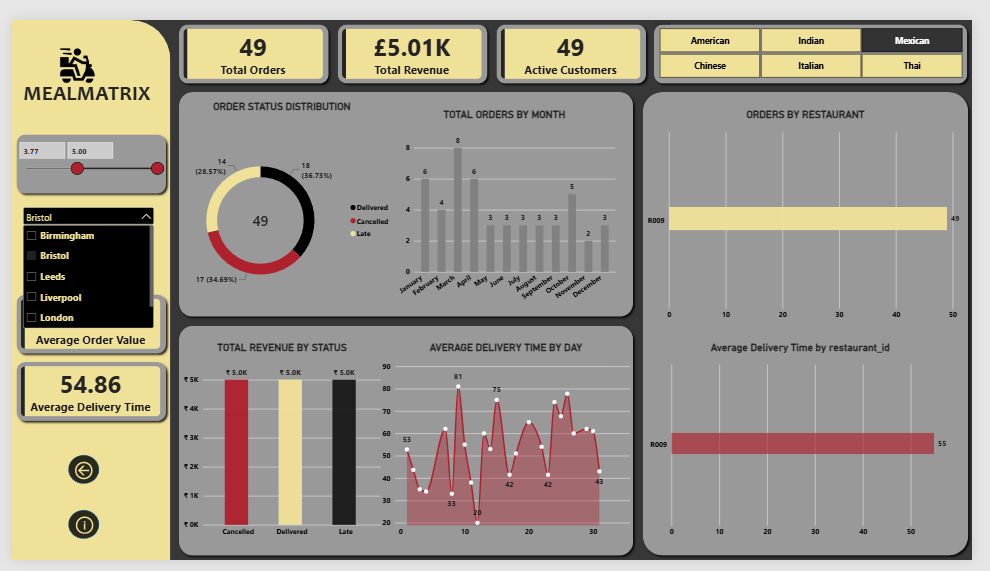

Layout of this report page (visuals, bound fields, positions):
{"tool":"powerbi","page":{"name":"Page 1","canvas":[1920,1080],"ordinal":0},"visuals":[{"type":"shape","box":[0,0,317,1080.6],"z":0},{"type":"shape","box":[0,220.2,317,135.8],"z":1000},{"type":"shape","box":[325.2,0,317,135.8],"z":2000},{"type":"shape","box":[959.2,0,317,135.8],"z":3000},{"type":"shape","box":[0,675.1,317,135.8],"z":4000},{"type":"shape","box":[0,539.3,317,135.8],"z":5000},{"type":"shape","box":[642.2,0,317,135.8],"z":6000},{"type":"shape","box":[1276.2,0,644.3,135.8],"z":7000},{"type":"shape","box":[325.2,135.8,926.2,467.2],"z":8000},{"type":"shape","box":[325.2,603.1,926.2,477.5],"z":9000},{"type":"shape","box":[1251.5,135.8,669,944.8],"z":10000},{"type":"image","box":[88.5,22.6,86.4,137.9],"z":11000},{"type":"textbox","box":[22.6,119.4,286.1,88.5],"z":12000},{"type":"cardVisual","fields":{"Data":["_orders_medium csv.Total Orders"]},"box":[343.7,18.5,279.9,100.9],"z":13000},{"type":"cardVisual","fields":{"Data":["_orders_medium csv.Average Order Value"]},"box":[18.5,557.8,279.9,100.9],"z":14000},{"type":"cardVisual","fields":{"Data":["_orders_medium csv.Total Revenue"]},"box":[660.7,16.5,279.9,100.9],"z":15000},{"type":"cardVisual","fields":{"Data":["_orders_medium csv.Active Customers"]},"box":[977.7,18.5,279.9,100.9],"z":16000},{"type":"cardVisual","fields":{"Data":["_orders_medium csv.Average Delivery Time"]},"box":[18.5,691.6,279.9,100.9],"z":17000},{"type":"donutChart","title":"ORDER STATUS DISTRIBUTION","fields":{"Category":["_orders_medium csv.status"],"Y":["_orders_medium csv.Total Orders"]},"box":[317,160.5,444.6,442.5],"z":18000},{"type":"clusteredColumnChart","title":"TOTAL ORDERS BY MONTH","fields":{"Category":["_orders_medium csv.order_time.Variation.Date Hierarchy.Month"],"Y":["_orders_medium csv.Total Orders"]},"box":[761.6,177,444.6,397.3],"z":19000},{"type":"barChart","title":"ORDERS BY RESTAURANT","fields":{"Category":["restaurants csv.restaurant_id"],"Y":["_orders_medium csv.Total Orders"]},"box":[1270,177,634,426.1],"z":20000},{"type":"clusteredColumnChart","title":"TOTAL REVENUE BY STATUS","fields":{"Category":["_orders_medium csv.status"],"Y":["_orders_medium csv.Total Revenue"]},"box":[343.7,642.2,395.2,395.2],"z":21000},{"type":"lineChart","title":"AVERAGE DELIVERY TIME BY DAY","fields":{"Category":["_orders_medium csv.order_time.Variation.Date Hierarchy.Day"],"Y":["_orders_medium csv.Average Delivery Time"]},"box":[738.9,642.2,496.1,395.2],"z":22000},{"type":"clusteredBarChart","fields":{"Category":["restaurants csv.restaurant_id"],"Y":["_orders_medium csv.Average Delivery Time"]},"box":[1276.2,642.2,603.1,395.2],"z":23000},{"type":"slicer","fields":{"Values":["restaurants csv.cuisine"]},"box":[1276.2,0,644.3,117.3],"z":24000},{"type":"slicer","fields":{"Values":["restaurants csv.rating"]},"box":[8.2,238.8,300,300],"z":25000},{"type":"slicer","fields":{"Values":["restaurants csv.city"]},"box":[18.5,370.5,271.7,300.5],"z":26000},{"type":"shape","box":[113.2,870.7,61.7,57.6],"z":27000},{"type":"shape","box":[113.2,979.8,61.7,57.6],"z":28000},{"type":"actionButton","box":[94.7,988,100,40],"z":29000},{"type":"actionButton","box":[76.2,870.7,137.9,61.7],"z":30000}]}

Visuals, with their boxes in screenshot pixels (x1, y1, x2, y2), scaled from the page's 1920x1080 canvas onto the 990x571 screenshot:
shape: 0, 0, 163, 570
shape: 0, 116, 163, 188
shape: 168, 0, 331, 72
shape: 495, 0, 658, 72
shape: 0, 357, 163, 429
shape: 0, 285, 163, 357
shape: 331, 0, 495, 72
shape: 658, 0, 989, 72
shape: 168, 72, 645, 319
shape: 168, 319, 645, 570
shape: 645, 72, 989, 570
image: 46, 12, 90, 85
textbox: 12, 63, 159, 110
cardVisual - _orders_medium csv.Total Orders: 177, 10, 322, 63
cardVisual - _orders_medium csv.Average Order Value: 10, 295, 154, 348
cardVisual - _orders_medium csv.Total Revenue: 341, 9, 485, 62
cardVisual - _orders_medium csv.Active Customers: 504, 10, 648, 63
cardVisual - _orders_medium csv.Average Delivery Time: 10, 366, 154, 419
"ORDER STATUS DISTRIBUTION" donutChart: 163, 85, 393, 319
"TOTAL ORDERS BY MONTH" clusteredColumnChart: 393, 94, 622, 304
"ORDERS BY RESTAURANT" barChart: 655, 94, 982, 319
"TOTAL REVENUE BY STATUS" clusteredColumnChart: 177, 340, 381, 548
"AVERAGE DELIVERY TIME BY DAY" lineChart: 381, 340, 637, 548
clusteredBarChart - restaurants csv.restaurant_id x _orders_medium csv.Average Delivery Time: 658, 340, 969, 548
slicer - restaurants csv.cuisine: 658, 0, 989, 62
slicer - restaurants csv.rating: 4, 126, 159, 285
slicer - restaurants csv.city: 10, 196, 150, 355
shape: 58, 460, 90, 491
shape: 58, 518, 90, 548
actionButton: 49, 522, 100, 544
actionButton: 39, 460, 110, 493
